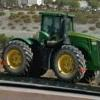Tractor: (6, 8, 100, 89)
